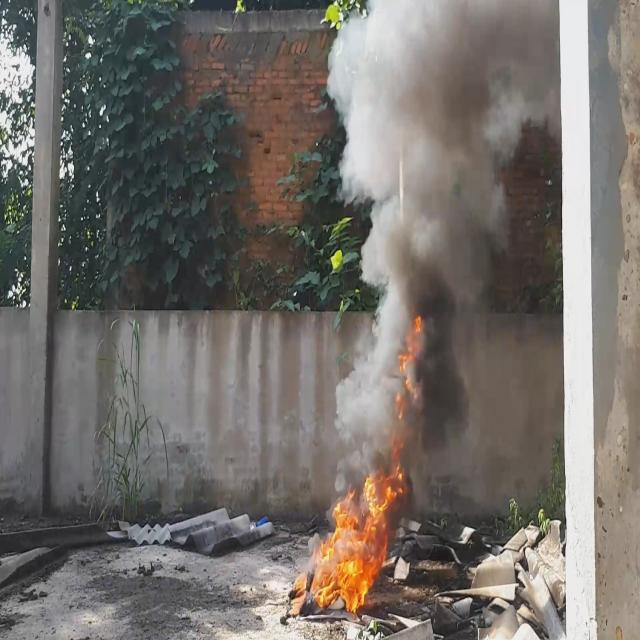Fire: (313, 306, 424, 604)
Smoke: (327, 0, 560, 490)
